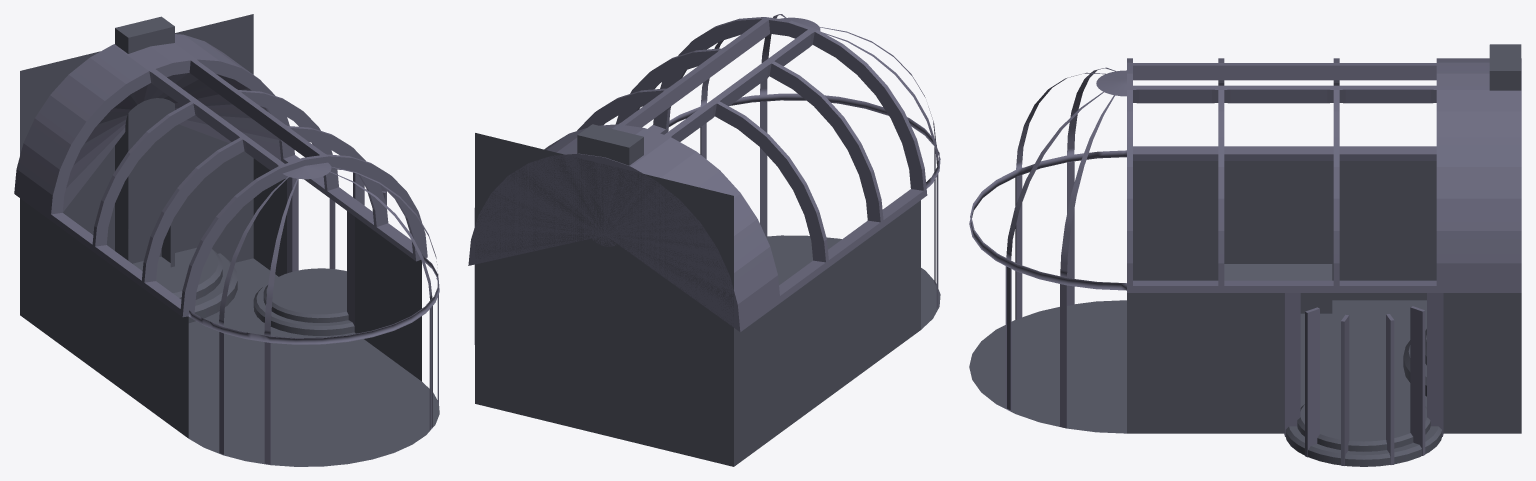
The model's file is ShipFrontEnd1.gltf.
3 views of the same model, side by side, from view 1: azimuth 30°, elevation 25°; view 2: azimuth 150°, elevation 25°; view 3: azimuth 270°, elevation 25° (orthographic). The views are drawn at different scales.
Visible parts, largest first — view 1: Cylinder.001, Floor, Tech Wall, Front Bottom Glass, LIft Shaft, Planning Wall, Empty FIller Wall.005, Gunner Platform, Dome above, Empty FIller Wall, Lift Platform, Gunner Glass (+5 smaller); view 2: Cylinder.001, Tech Wall, Empty FIller Wall.004, Empty FIller Wall.003, Empty FIller Wall.005, Empty FIller Wall.002, Empty FIller Wall, Lift Platform, Dome above, Front Bottom Glass, LIft Shaft, Head Front Glass; view 3: Cylinder.001, Tech Wall, Planning Wall, Front Bottom Glass, Gunner Glass, Empty FIller Wall.001, Floor, Gunner Platform, Dome above, Head Front Glass, Cube, LIft Shaft.
Boxes of the visible parts, x1=… form: Cylinder.001: x1=14, y1=34, x2=427, y2=317; Floor: x1=188, y1=258, x2=421, y2=438; Tech Wall: x1=53, y1=223, x2=188, y2=438; Front Bottom Glass: x1=189, y1=381, x2=439, y2=466; LIft Shaft: x1=115, y1=16, x2=174, y2=270; Planning Wall: x1=355, y1=217, x2=421, y2=381; Empty FIller Wall.005: x1=195, y1=14, x2=253, y2=262; Gunner Platform: x1=253, y1=268, x2=354, y2=335; Dome above: x1=188, y1=162, x2=439, y2=344; Empty FIller Wall: x1=20, y1=198, x2=53, y2=339; Lift Platform: x1=156, y1=247, x2=237, y2=322; Gunner Glass: x1=287, y1=172, x2=386, y2=332; Cylinder.001: x1=468, y1=17, x2=927, y2=332; Tech Wall: x1=771, y1=200, x2=920, y2=439; Empty FIller Wall.004: x1=539, y1=148, x2=604, y2=434; Empty FIller Wall.003: x1=604, y1=164, x2=668, y2=450; Empty FIller Wall.005: x1=475, y1=133, x2=539, y2=415; Empty FIller Wall.002: x1=669, y1=180, x2=733, y2=466; Empty FIller Wall: x1=734, y1=310, x2=771, y2=466; Lift Platform: x1=507, y1=389, x2=701, y2=458; Dome above: x1=669, y1=14, x2=940, y2=188; Front Bottom Glass: x1=766, y1=235, x2=940, y2=329; LIft Shaft: x1=577, y1=124, x2=643, y2=165; Head Front Glass: x1=700, y1=101, x2=938, y2=308; Cylinder.001: x1=1127, y1=58, x2=1521, y2=292; Tech Wall: x1=1133, y1=161, x2=1436, y2=300; Planning Wall: x1=1127, y1=293, x2=1284, y2=433; Front Bottom Glass: x1=969, y1=300, x2=1126, y2=433; Gunner Glass: x1=1284, y1=293, x2=1443, y2=465; Empty FIller Wall.001: x1=1443, y1=293, x2=1521, y2=433; Floor: x1=1300, y1=300, x2=1426, y2=405; Gunner Platform: x1=1285, y1=387, x2=1441, y2=466; Dome above: x1=969, y1=67, x2=1126, y2=290; Head Front Glass: x1=1005, y1=161, x2=1074, y2=428; Cube: x1=1224, y1=264, x2=1332, y2=313; LIft Shaft: x1=1489, y1=44, x2=1521, y2=90.
Bounding box in the file's own units: 255 × 216 × 350.
